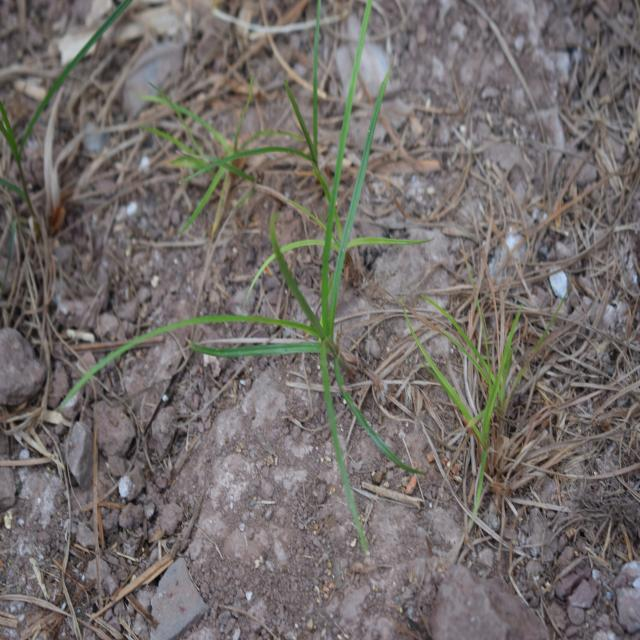sedge: (120, 54, 442, 511)
